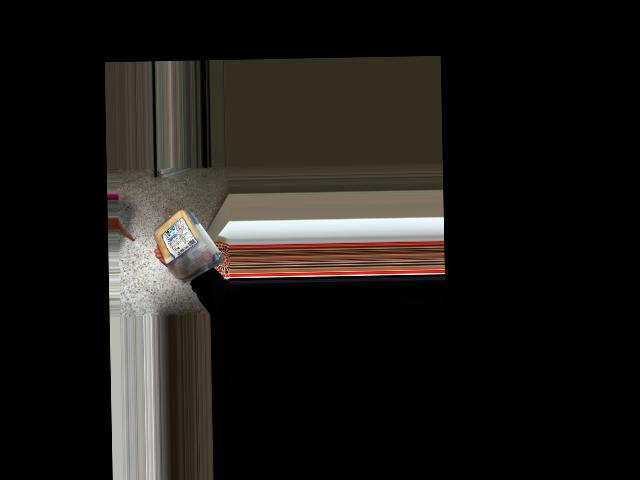cheese: (154, 210, 214, 276)
